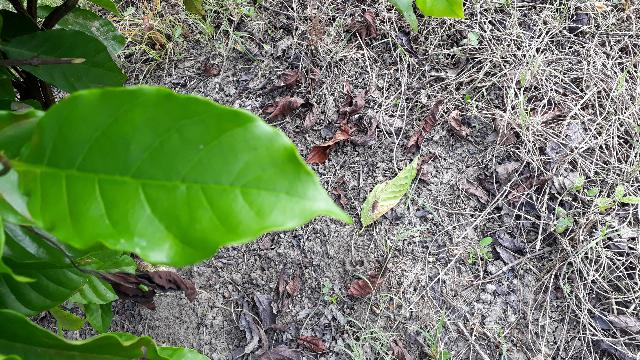healthy: (12, 84, 362, 270)
